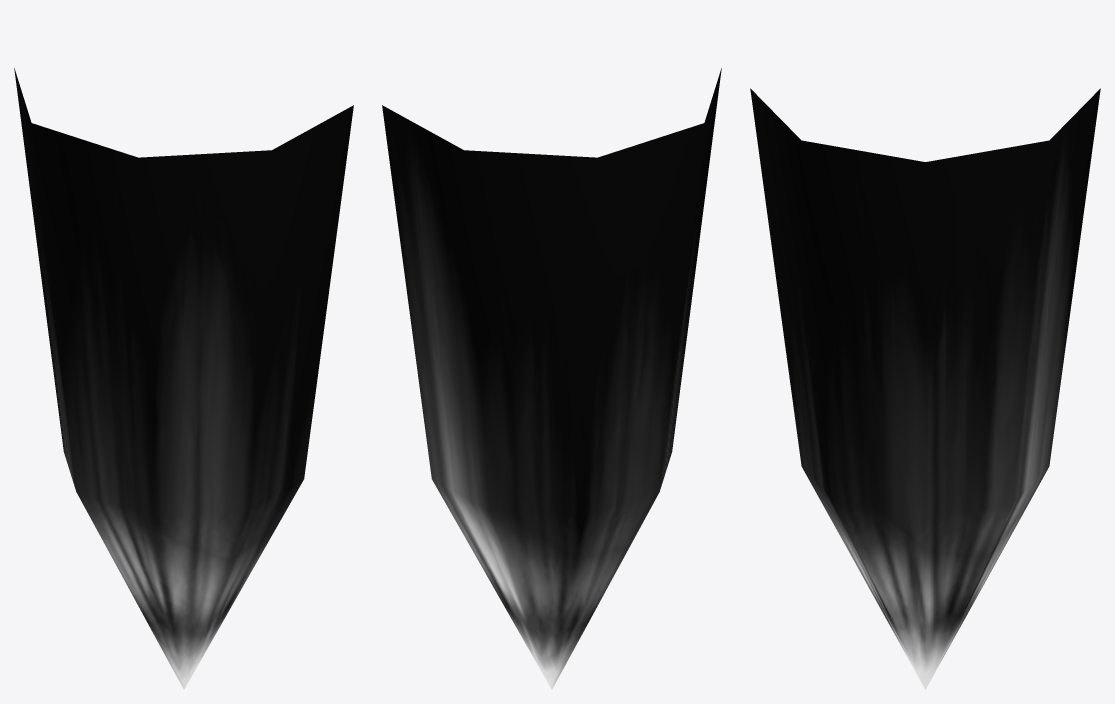
File: Piercing.glb
3 renders of one model, left to right at view 1: azimuth 30°, elevation 25°; view 2: azimuth 150°, elevation 25°; view 3: azimuth 270°, elevation 25°, orthographic.
Parts seen in each view (by area): view 1: model_Piercing; view 2: model_Piercing; view 3: model_Piercing.
Part boxes in pixels (x1=…): model_Piercing: x1=14, y1=68, x2=353, y2=689; model_Piercing: x1=382, y1=68, x2=721, y2=689; model_Piercing: x1=750, y1=88, x2=1100, y2=689.
Bounding box in the file's own units: 0.3544 × 0.6714 × 0.3544.
1 material, 1 textured.
